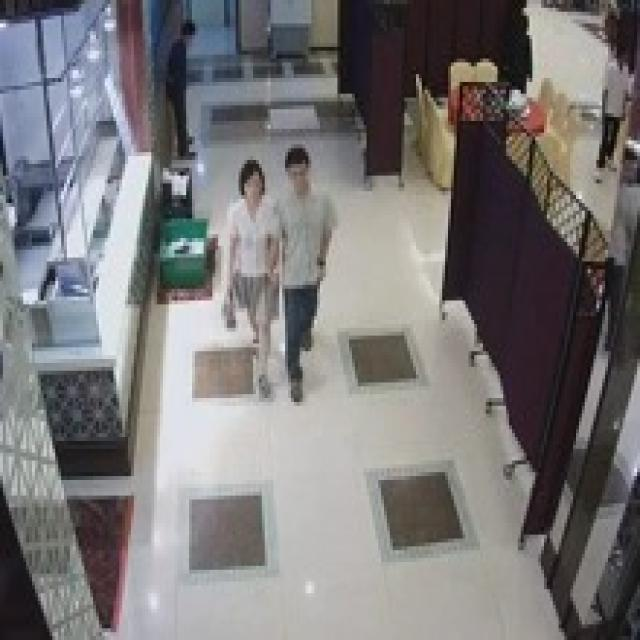normal: (275, 145, 334, 362), (223, 154, 276, 367), (157, 9, 214, 166)
